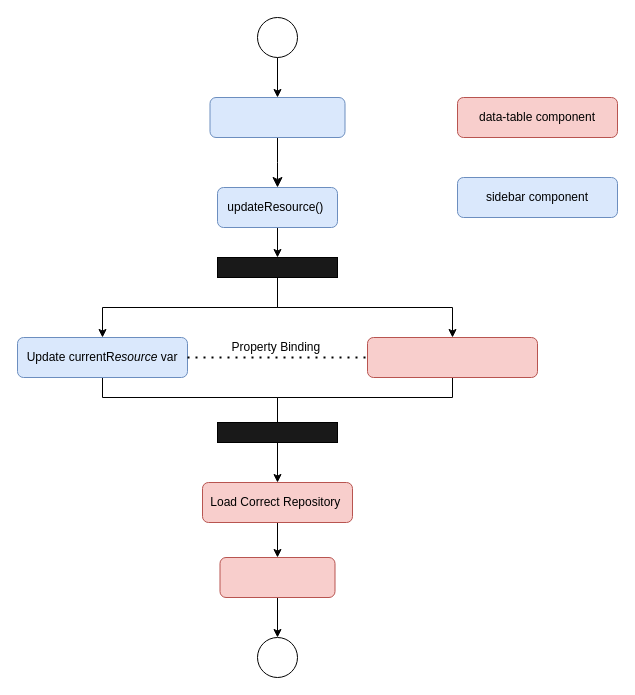
Image size: 635x695. Some labels were removed from this diagram. Each missing label, with the centre of its shape:
"Update resource Input" goes at (452,357).
"Update Table" goes at (277,577).
"User presses button" goes at (277,117).
